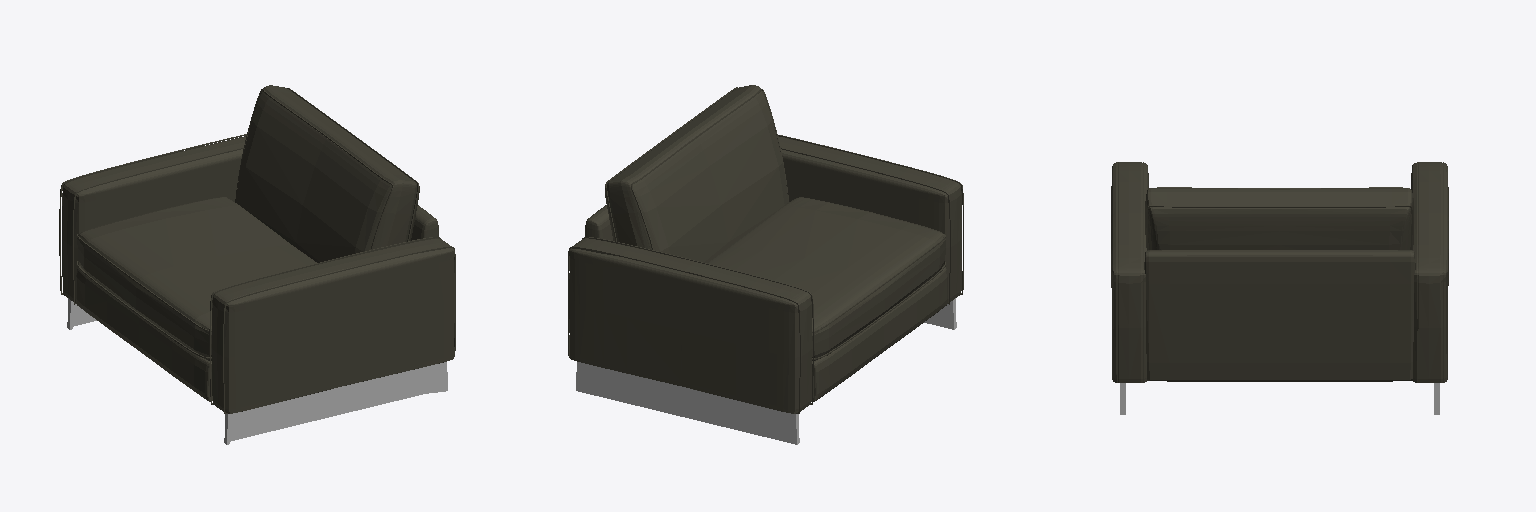
The model's file is couch2.obj.
3 renders of one model, left to right at view 1: azimuth 30°, elevation 25°; view 2: azimuth 150°, elevation 25°; view 3: azimuth 270°, elevation 25°, orthographic.
Visible parts, largest first — view 1: Mesh2 Group3 Group1 Natuzzi_Capriccio_2896_261 Component_13_1 Mo, Mesh1 Group2 Group1 Natuzzi_Capriccio_2896_261 Component_13_1 Mo, Mesh6 Group7 Group5 Natuzzi_Capriccio_2896_261 Component_13_1 Mo, Mesh9 Group12 Group11 Natuzzi_Capriccio_2896_261 Component_13_1 , Mesh10 Group13 Group11 Natuzzi_Capriccio_2896_261 Component_13_1, Mesh5 Group6 Group5 Natuzzi_Capriccio_2896_261 Component_13_1 Mo, Mesh20 Group23 Group21 Natuzzi_Capriccio_2896_261 Component_13_1, Mesh11 Group14 Natuzzi_Capriccio_2896_261 Component_13_1 Model, Mesh19 Group22 Group21 Natuzzi_Capriccio_2896_261 Component_13_1, Mesh13 Group17 Group16 Natuzzi_Capriccio_2896_261 Component_13_1, Mesh14 Group18 Group16 Natuzzi_Capriccio_2896_261 Component_13_1, Mesh17 Group20 Natuzzi_Capriccio_2896_261 Component_13_1 Model (+2 smaller); view 2: Mesh20 Group23 Group21 Natuzzi_Capriccio_2896_261 Component_13_1, Mesh19 Group22 Group21 Natuzzi_Capriccio_2896_261 Component_13_1, Mesh5 Group6 Group5 Natuzzi_Capriccio_2896_261 Component_13_1 Mo, Mesh10 Group13 Group11 Natuzzi_Capriccio_2896_261 Component_13_1, Mesh9 Group12 Group11 Natuzzi_Capriccio_2896_261 Component_13_1 , Mesh2 Group3 Group1 Natuzzi_Capriccio_2896_261 Component_13_1 Mo, Mesh6 Group7 Group5 Natuzzi_Capriccio_2896_261 Component_13_1 Mo, Mesh12 Group15 Natuzzi_Capriccio_2896_261 Component_13_1 Model, Mesh1 Group2 Group1 Natuzzi_Capriccio_2896_261 Component_13_1 Mo, Mesh14 Group18 Group16 Natuzzi_Capriccio_2896_261 Component_13_1, Mesh13 Group17 Group16 Natuzzi_Capriccio_2896_261 Component_13_1, Mesh22 Group24 Natuzzi_Capriccio_2896_261 Component_13_1 Model (+1 smaller); view 3: Mesh7 Group9 Group8 Natuzzi_Capriccio_2896_261 Component_13_1 Mo, Mesh8 Group10 Group8 Natuzzi_Capriccio_2896_261 Component_13_1 M, Mesh9 Group12 Group11 Natuzzi_Capriccio_2896_261 Component_13_1 , Mesh10 Group13 Group11 Natuzzi_Capriccio_2896_261 Component_13_1, Mesh19 Group22 Group21 Natuzzi_Capriccio_2896_261 Component_13_1, Mesh1 Group2 Group1 Natuzzi_Capriccio_2896_261 Component_13_1 Mo, Mesh20 Group23 Group21 Natuzzi_Capriccio_2896_261 Component_13_1, Mesh2 Group3 Group1 Natuzzi_Capriccio_2896_261 Component_13_1 Mo, Mesh15 Group19 Natuzzi_Capriccio_2896_261 Component_13_1 Model.
Part boxes in pixels (left/top/right/bottom): Mesh2 Group3 Group1 Natuzzi_Capriccio_2896_261 Component_13_1 Mo: left=212, top=262, right=342, bottom=413; Mesh1 Group2 Group1 Natuzzi_Capriccio_2896_261 Component_13_1 Mo: left=328, top=238, right=454, bottom=385; Mesh6 Group7 Group5 Natuzzi_Capriccio_2896_261 Component_13_1 Mo: left=77, top=197, right=290, bottom=311; Mesh9 Group12 Group11 Natuzzi_Capriccio_2896_261 Component_13_1 : left=296, top=133, right=419, bottom=262; Mesh10 Group13 Group11 Natuzzi_Capriccio_2896_261 Component_13_1: left=236, top=85, right=350, bottom=246; Mesh5 Group6 Group5 Natuzzi_Capriccio_2896_261 Component_13_1 Mo: left=136, top=245, right=316, bottom=360; Mesh20 Group23 Group21 Natuzzi_Capriccio_2896_261 Component_13_1: left=62, top=153, right=192, bottom=302; Mesh11 Group14 Natuzzi_Capriccio_2896_261 Component_13_1 Model: left=224, top=362, right=447, bottom=444; Mesh19 Group22 Group21 Natuzzi_Capriccio_2896_261 Component_13_1: left=176, top=136, right=245, bottom=201; Mesh13 Group17 Group16 Natuzzi_Capriccio_2896_261 Component_13_1: left=139, top=317, right=212, bottom=401; Mesh14 Group18 Group16 Natuzzi_Capriccio_2896_261 Component_13_1: left=76, top=266, right=139, bottom=350; Mesh17 Group20 Natuzzi_Capriccio_2896_261 Component_13_1 Model: left=223, top=246, right=455, bottom=413; Mesh20 Group23 Group21 Natuzzi_Capriccio_2896_261 Component_13_1: left=681, top=262, right=812, bottom=413; Mesh19 Group22 Group21 Natuzzi_Capriccio_2896_261 Component_13_1: left=569, top=238, right=695, bottom=385; Mesh5 Group6 Group5 Natuzzi_Capriccio_2896_261 Component_13_1 Mo: left=730, top=197, right=945, bottom=314; Mesh10 Group13 Group11 Natuzzi_Capriccio_2896_261 Component_13_1: left=605, top=133, right=728, bottom=262; Mesh9 Group12 Group11 Natuzzi_Capriccio_2896_261 Component_13_1 : left=673, top=85, right=788, bottom=246; Mesh2 Group3 Group1 Natuzzi_Capriccio_2896_261 Component_13_1 Mo: left=831, top=152, right=961, bottom=302; Mesh6 Group7 Group5 Natuzzi_Capriccio_2896_261 Component_13_1 Mo: left=707, top=247, right=884, bottom=360; Mesh12 Group15 Natuzzi_Capriccio_2896_261 Component_13_1 Model: left=576, top=362, right=799, bottom=444; Mesh1 Group2 Group1 Natuzzi_Capriccio_2896_261 Component_13_1 Mo: left=778, top=136, right=845, bottom=202; Mesh14 Group18 Group16 Natuzzi_Capriccio_2896_261 Component_13_1: left=812, top=318, right=883, bottom=401; Mesh13 Group17 Group16 Natuzzi_Capriccio_2896_261 Component_13_1: left=882, top=266, right=947, bottom=352; Mesh22 Group24 Natuzzi_Capriccio_2896_261 Component_13_1 Model: left=568, top=247, right=800, bottom=413; Mesh7 Group9 Group8 Natuzzi_Capriccio_2896_261 Component_13_1 Mo: left=1144, top=250, right=1279, bottom=381; Mesh8 Group10 Group8 Natuzzi_Capriccio_2896_261 Component_13_1 M: left=1280, top=250, right=1415, bottom=381; Mesh9 Group12 Group11 Natuzzi_Capriccio_2896_261 Component_13_1 : left=1145, top=188, right=1279, bottom=249; Mesh10 Group13 Group11 Natuzzi_Capriccio_2896_261 Component_13_1: left=1280, top=188, right=1413, bottom=249; Mesh19 Group22 Group21 Natuzzi_Capriccio_2896_261 Component_13_1: left=1413, top=213, right=1448, bottom=382; Mesh1 Group2 Group1 Natuzzi_Capriccio_2896_261 Component_13_1 Mo: left=1111, top=213, right=1146, bottom=382; Mesh20 Group23 Group21 Natuzzi_Capriccio_2896_261 Component_13_1: left=1411, top=162, right=1448, bottom=218; Mesh2 Group3 Group1 Natuzzi_Capriccio_2896_261 Component_13_1 Mo: left=1111, top=162, right=1148, bottom=218; Mesh15 Group19 Natuzzi_Capriccio_2896_261 Component_13_1 Model: left=1146, top=205, right=1412, bottom=249.
Bounding box in the file's own units: 24.73 × 20.63 × 30.34.